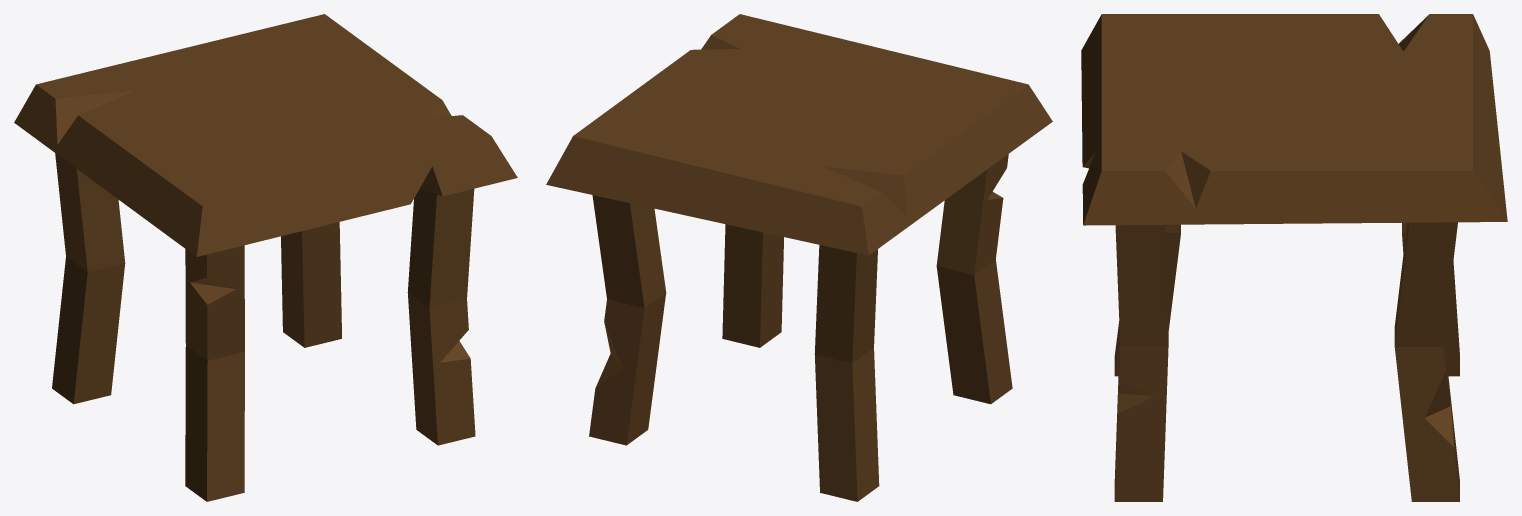
Rendered from Chair_1_Brown.fbx.
3 renders of one model, left to right at view 1: azimuth 30°, elevation 25°; view 2: azimuth 150°, elevation 25°; view 3: azimuth 270°, elevation 25°, orthographic. The views are drawn at different scales.
Visible parts, largest first — view 1: Chair_1_Brown; view 2: Chair_1_Brown; view 3: Chair_1_Brown.
Boxes of the visible parts, x1,y1,x2,y2 form: Chair_1_Brown: (14, 14, 517, 501); Chair_1_Brown: (546, 14, 1052, 501); Chair_1_Brown: (1081, 14, 1507, 501).
Bounding box in the file's own units: 55.76 × 50 × 57.42.
